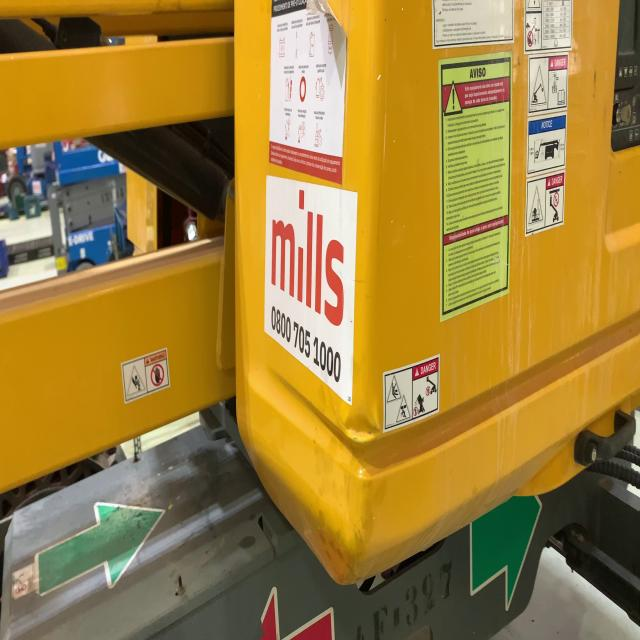Adesivos: (263, 173, 359, 412)
